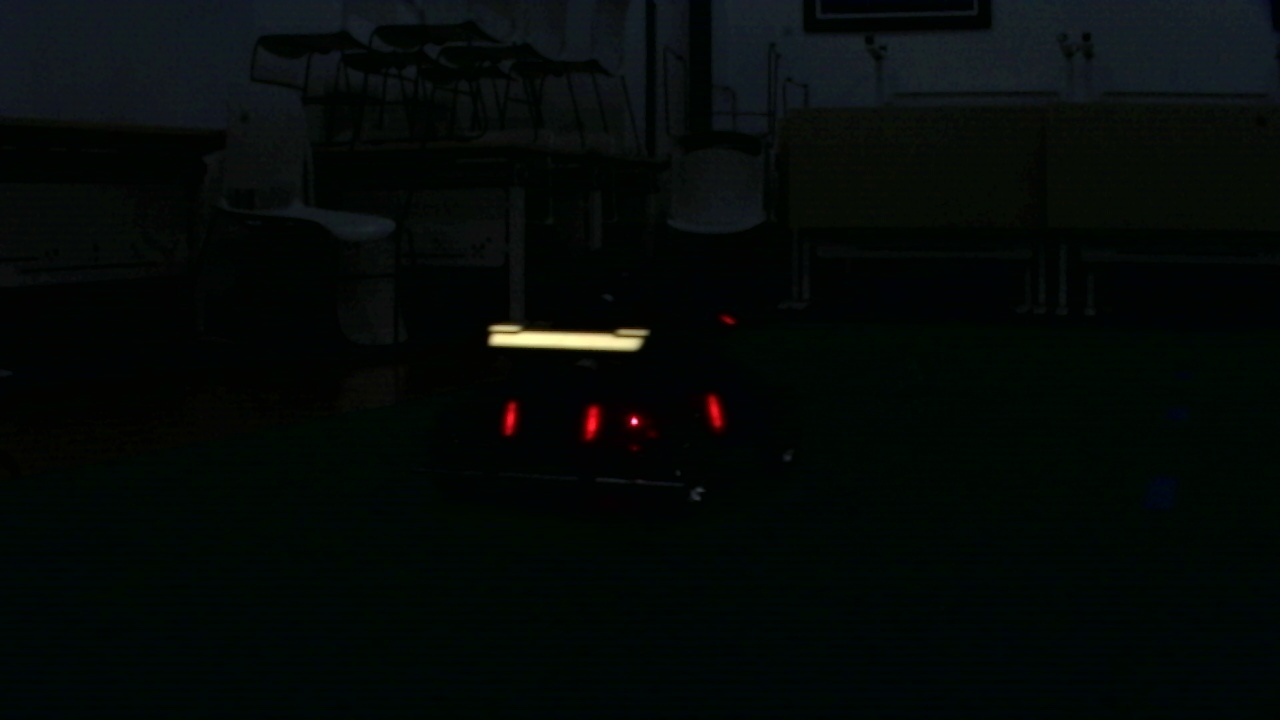lamp: (701, 392, 726, 435), (580, 397, 600, 440), (503, 400, 518, 440)
pair1: (505, 402, 599, 435)
